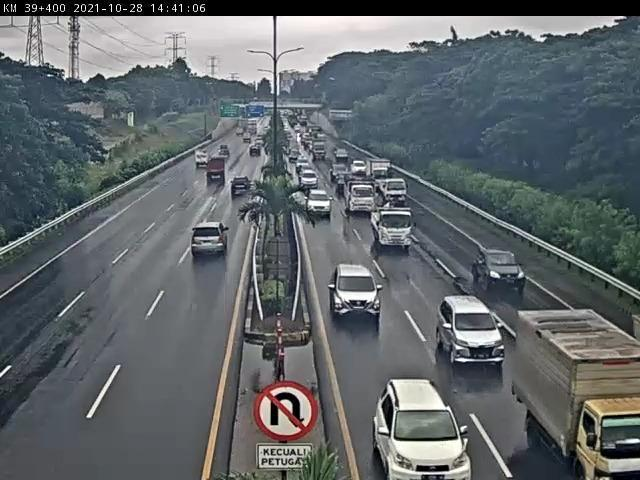car: (373, 378, 474, 480), (435, 296, 507, 370), (331, 264, 384, 318), (472, 248, 528, 292), (306, 190, 333, 217), (230, 177, 252, 199)
truck: (372, 209, 416, 251), (190, 223, 230, 257), (343, 180, 376, 215), (378, 177, 409, 206)
